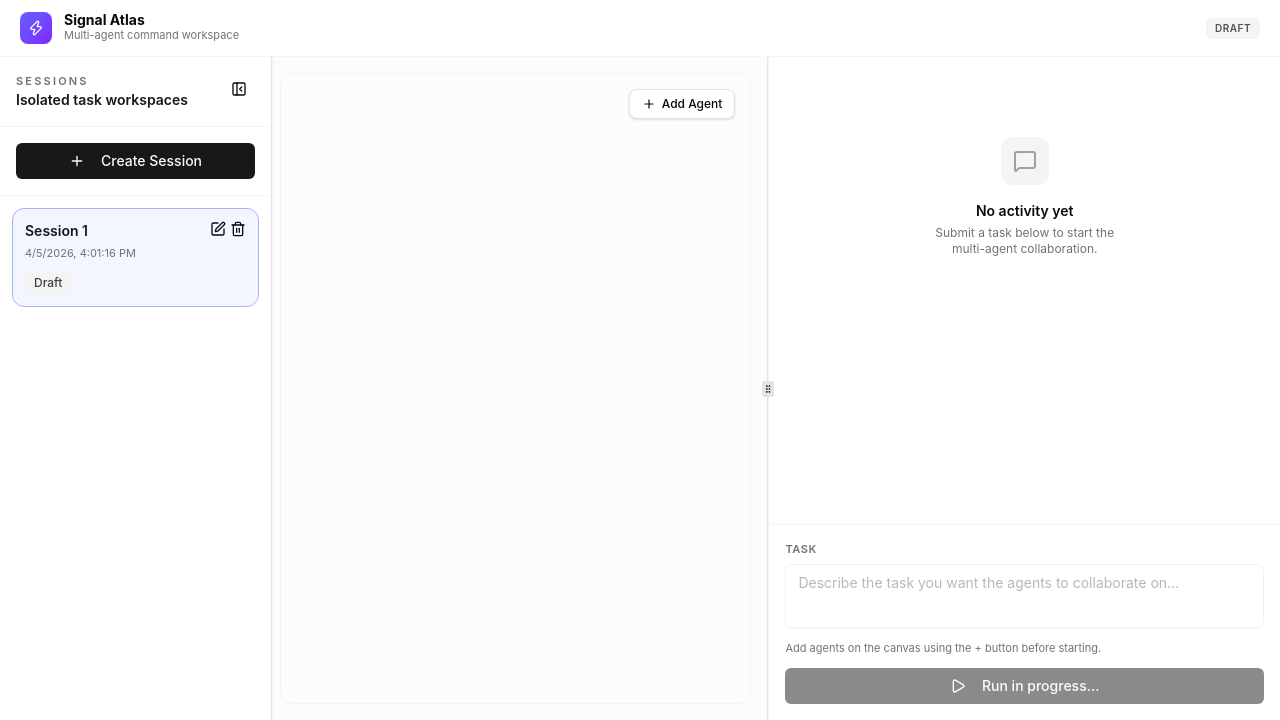
it: App › deletes only the selected non-live session and falls back to the remaining session
Click the button "Create Session".
click(136, 160)  # box [16,142,255,178]
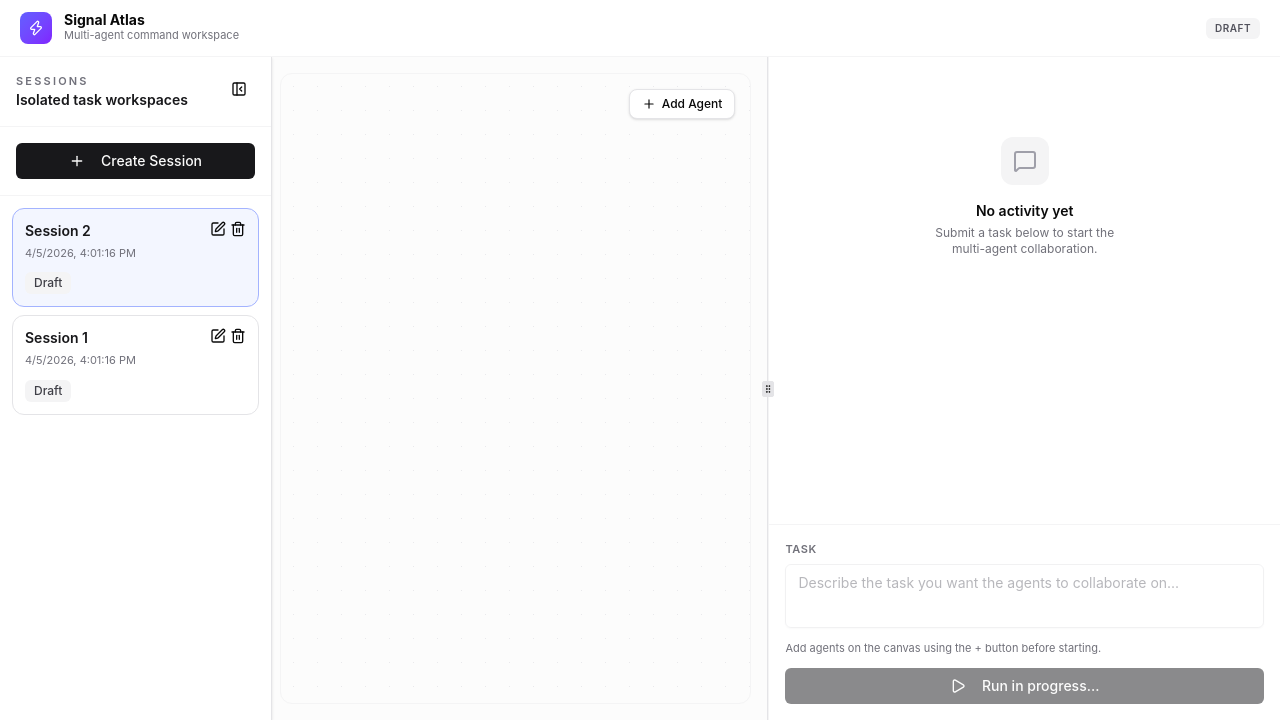
Type "Second session" into the text box labelled "Task".
click(1025, 596); type("Second session")  # box [785,564,1264,628]
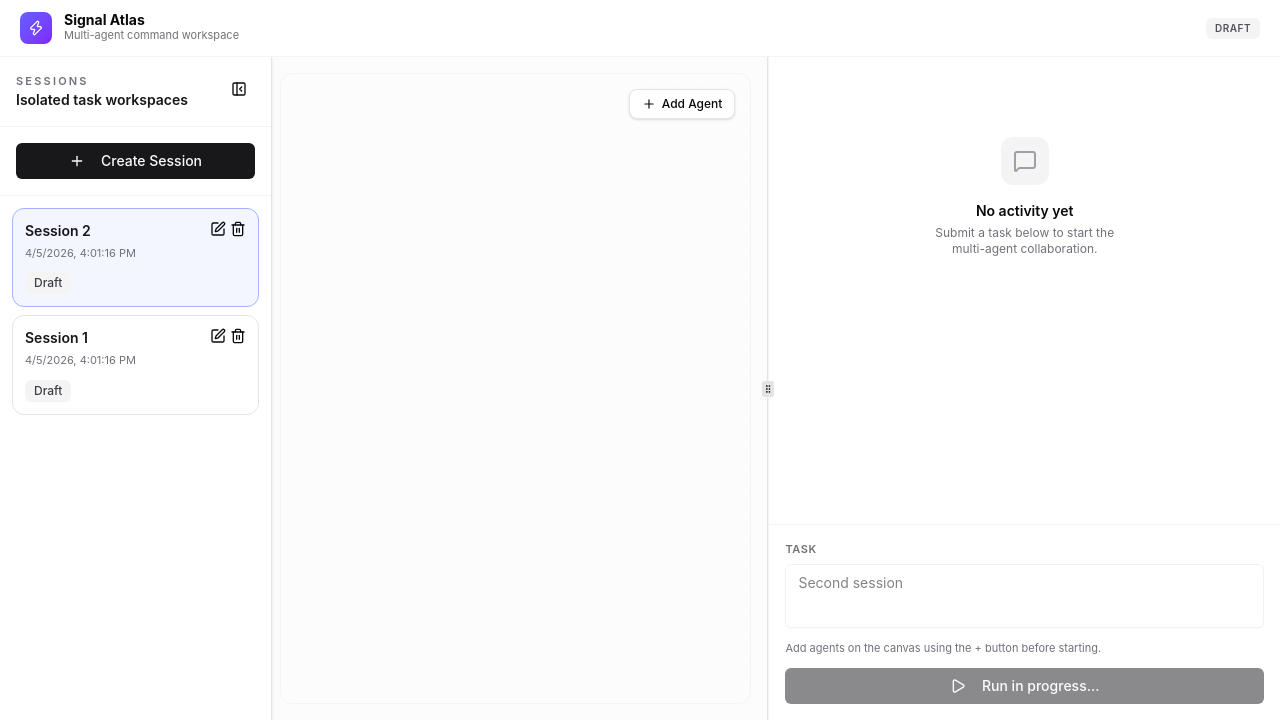
Check: the text "Session 2" is shown, box [25,222,91,238]
Click the button named "delete session 2".
click(238, 228)  # box [230,220,246,236]
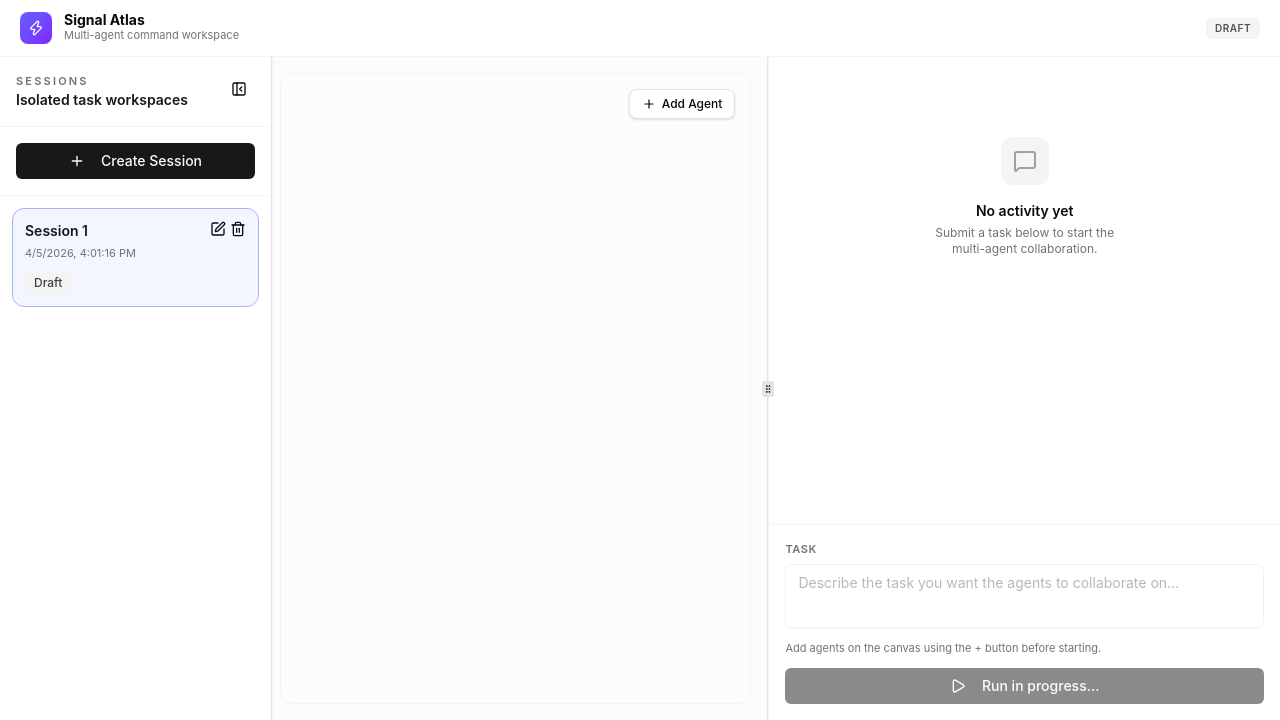
Check: the text "Session 1" is shown, box [25,222,88,238]
Check: the button "Session 2" is gone
Check: the text box labelled "Task" is empty, box [785,564,1264,628]
